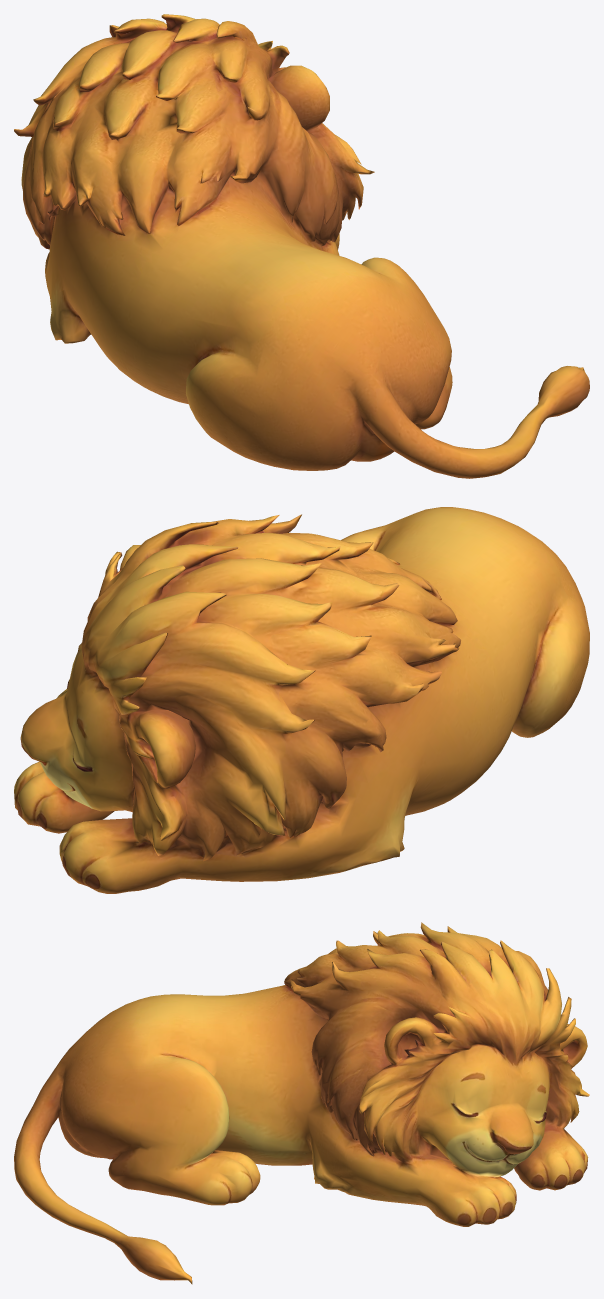
Rendered from lion.glb.
3 views of the same model, one above another, from view 1: azimuth 30°, elevation 25°; view 2: azimuth 150°, elevation 25°; view 3: azimuth 270°, elevation 25° (orthographic). The views are drawn at different scales.
Visible parts, largest first — view 1: tripo_node_b955044e-73a5-40ca-b6ba-36e96469c2ea; view 2: tripo_node_b955044e-73a5-40ca-b6ba-36e96469c2ea; view 3: tripo_node_b955044e-73a5-40ca-b6ba-36e96469c2ea.
Part boxes in pixels (x1,y1,x2,y2): tripo_node_b955044e-73a5-40ca-b6ba-36e96469c2ea: (14,14,589,478); tripo_node_b955044e-73a5-40ca-b6ba-36e96469c2ea: (14,507,589,893); tripo_node_b955044e-73a5-40ca-b6ba-36e96469c2ea: (14,922,589,1284).
Bounding box in the file's own units: 0.8536 × 0.6001 × 1.25.
1 material, 1 textured.
